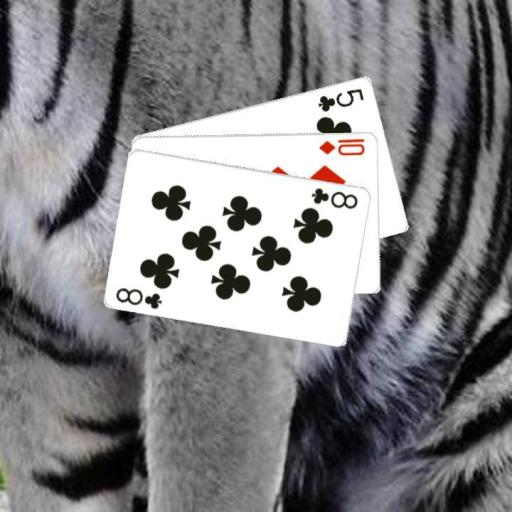10D: (316, 135, 367, 157)
5C: (315, 85, 366, 113)
8C: (309, 184, 360, 211), (113, 284, 164, 311)
